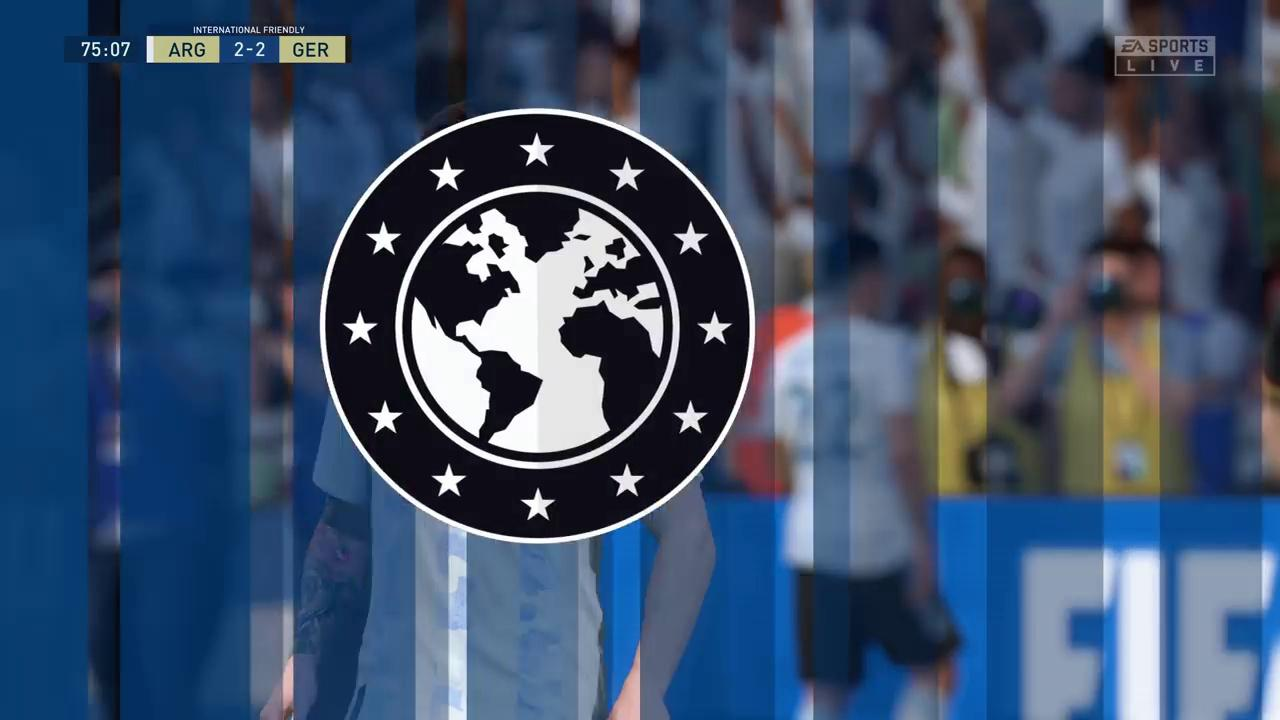scoreboard: (151, 40, 344, 64)
timestamp: (65, 37, 146, 62)
